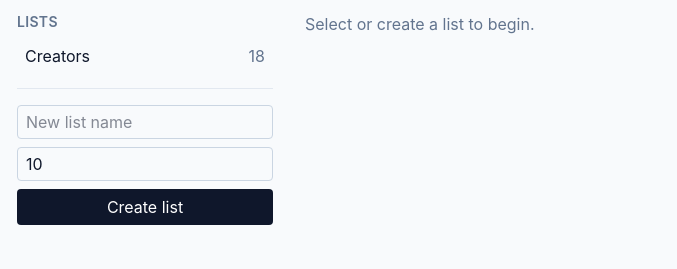
Test: WaitingListsView › renders the active list total and cohorts after selecting
The width and height of the screenshot is (677, 269).
Click the button "Creators 18".
click(145, 56)  # box [17, 40, 273, 72]
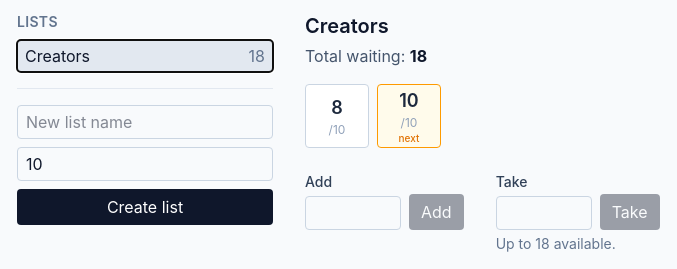
Now the text "Total waiting:" shows "18", box [410, 46, 427, 66]
